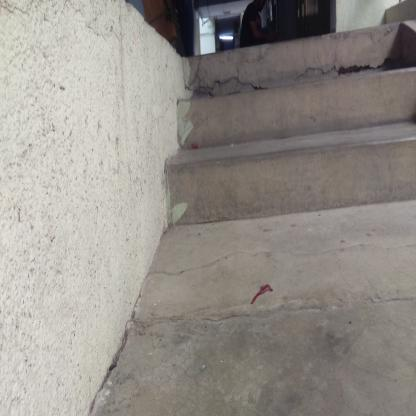stairs: (192, 28, 392, 233)
